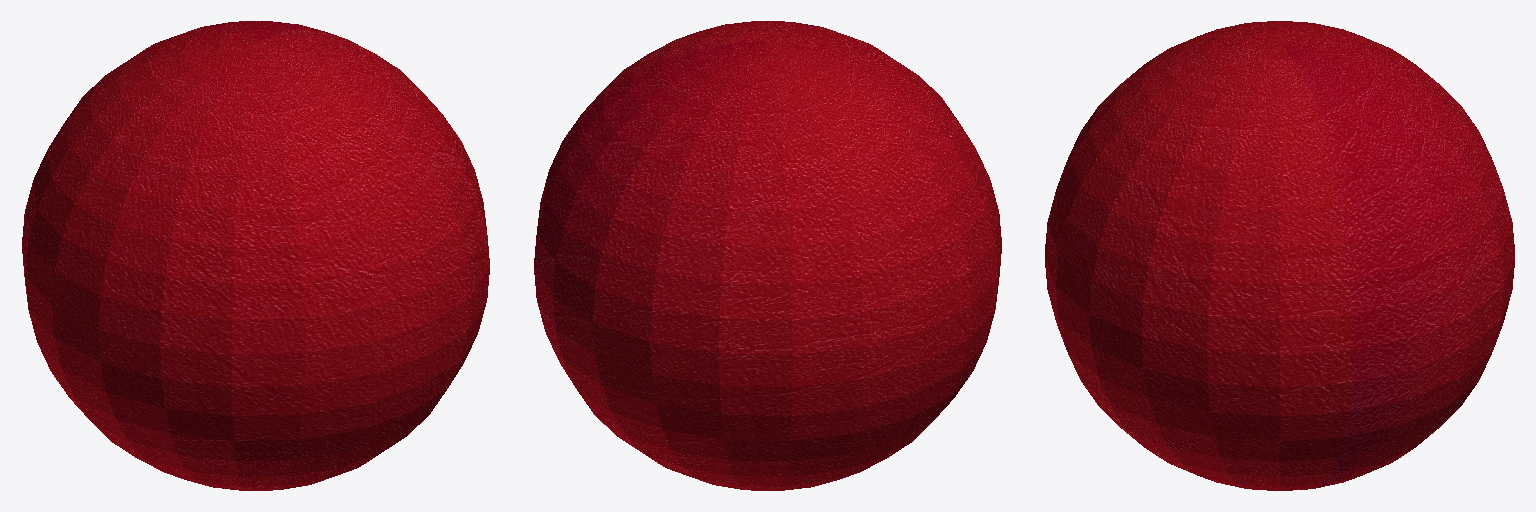
3 renders of one model, left to right at view 1: azimuth 30°, elevation 25°; view 2: azimuth 150°, elevation 25°; view 3: azimuth 270°, elevation 25°, orthographic.
Visible parts, largest first — view 1: pSphere1; view 2: pSphere1; view 3: pSphere1.
Part boxes in pixels (x1,y1,x2,y2): pSphere1: (22, 21, 489, 490); pSphere1: (534, 21, 1001, 490); pSphere1: (1045, 21, 1514, 490).
Bounding box in the file's own units: 2 × 2 × 2.
1 materials, 1 textured.